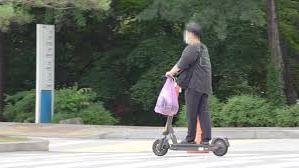helmet: (150, 21, 233, 157)
